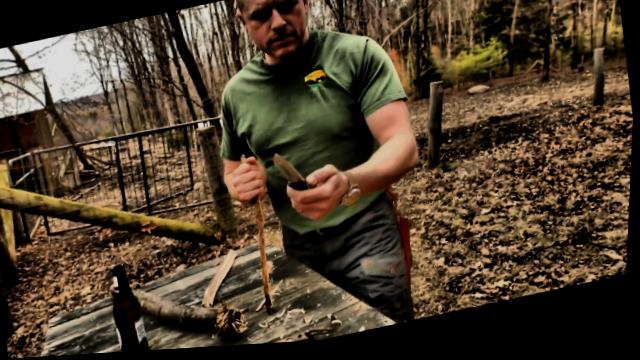knife: (267, 136, 345, 218)
